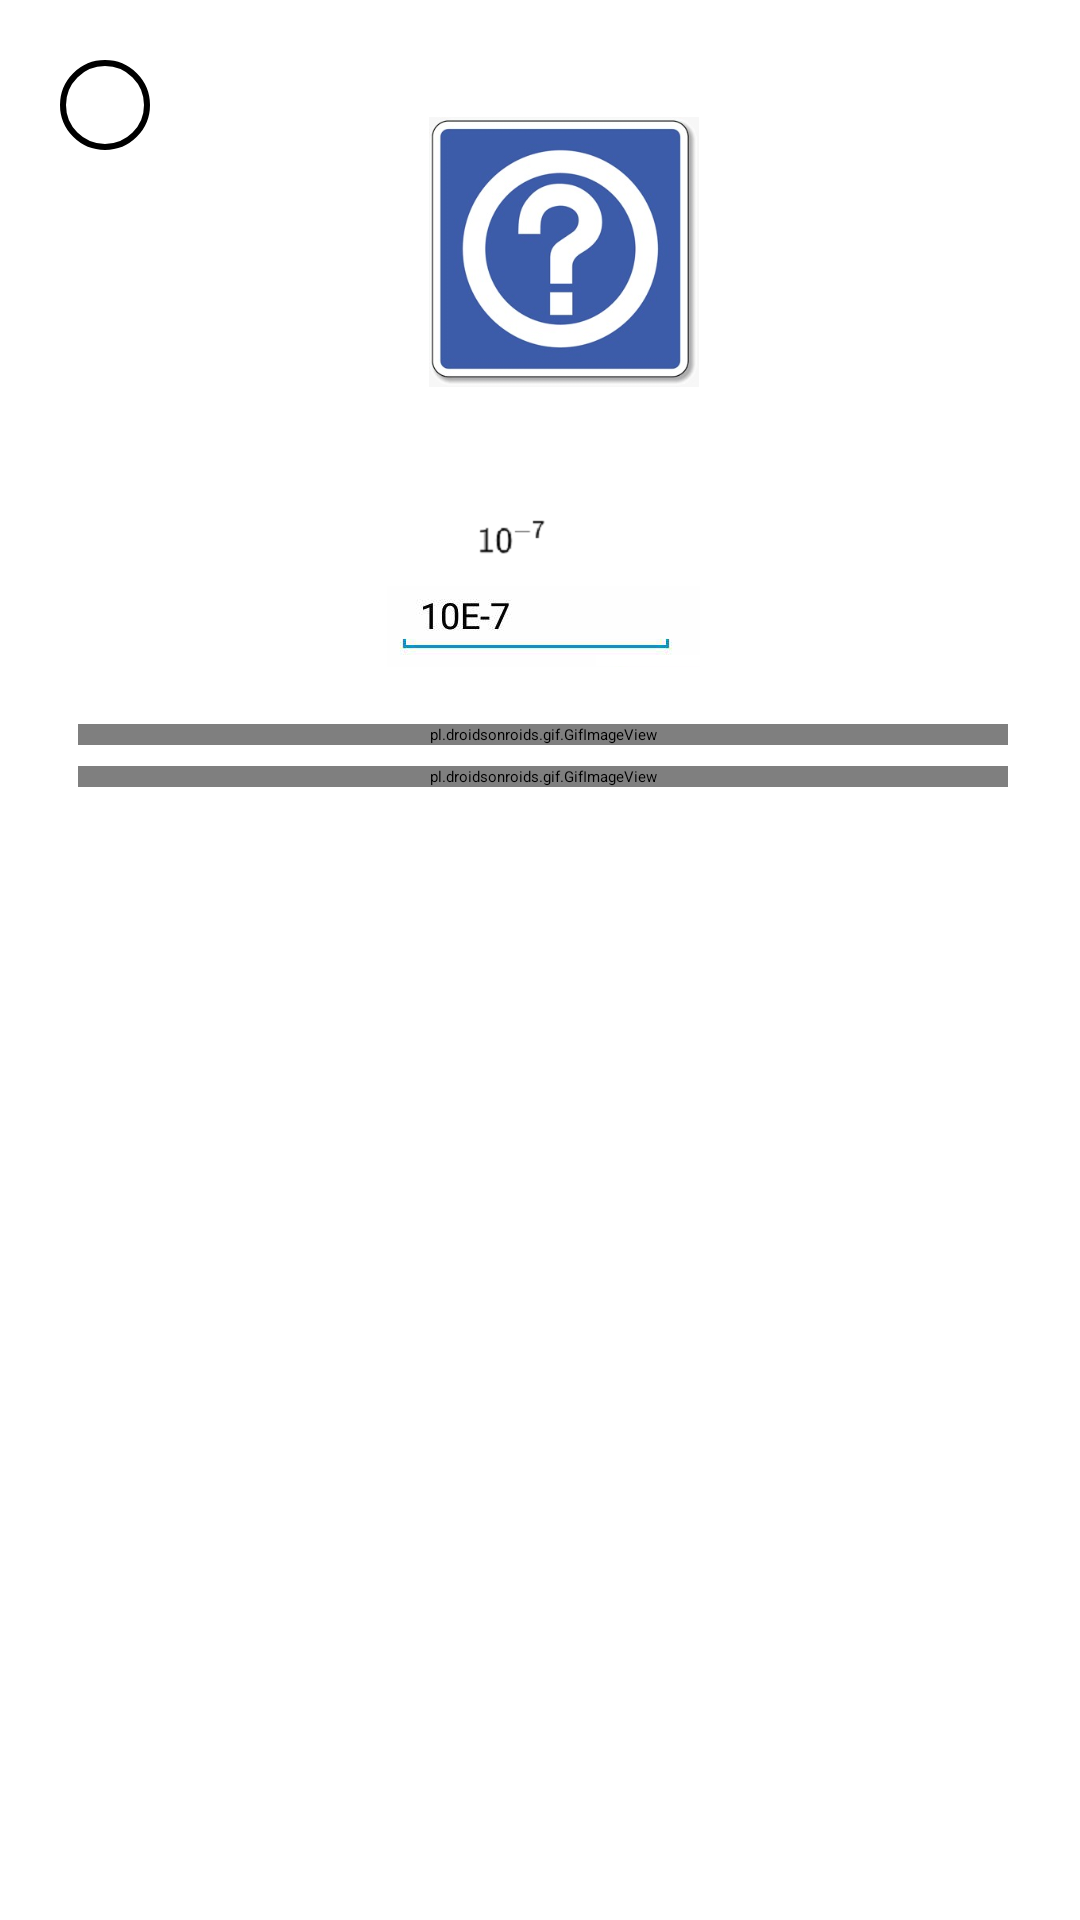

Screen size 1080w x 1920h. Icon name, then its box in pixels as (x1, y1, x2, y2):
signo: (431, 120, 694, 383)
